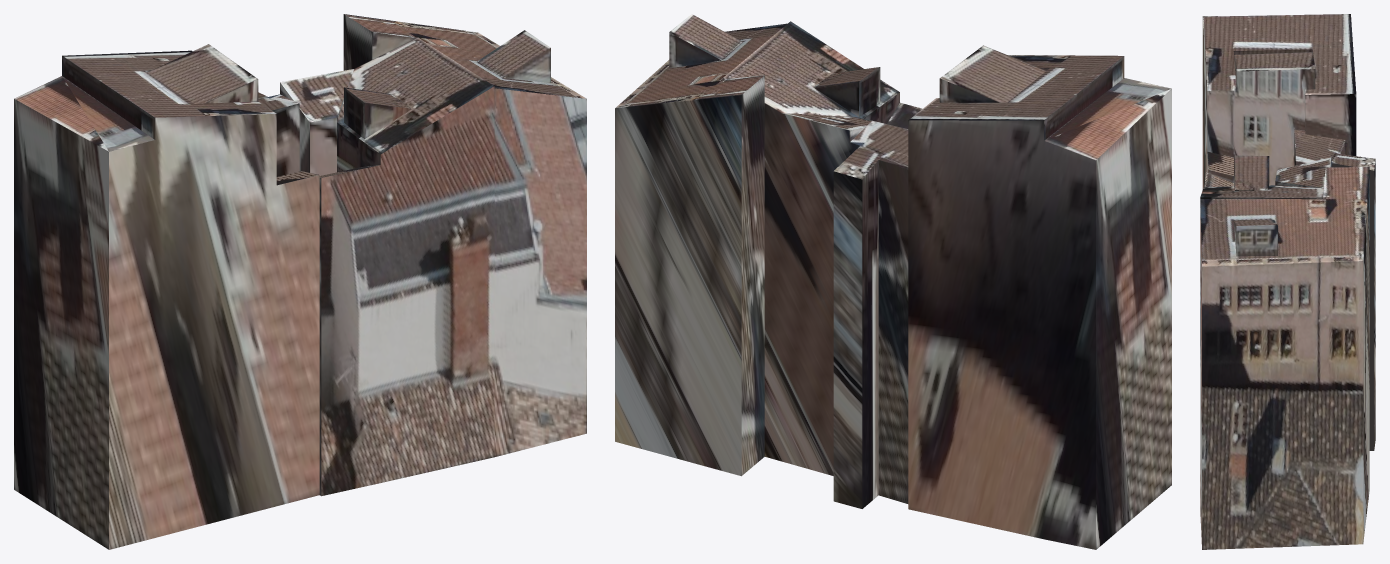
The picture shows the model from 3 angles, left to right: view 1: azimuth 30°, elevation 25°; view 2: azimuth 150°, elevation 25°; view 3: azimuth 270°, elevation 25°; orthographic projection. The views are drawn at different scales.
Visible parts, largest first — view 1: Z_UP; view 2: Z_UP; view 3: Z_UP.
Part boxes in pixels (box(x1,y1,x2,y2)): Z_UP: box(14, 14, 586, 549); Z_UP: box(615, 14, 1171, 549); Z_UP: box(1200, 14, 1375, 549).
Size of the model in its own units: 28.69 by 23.65 by 10.58.
2 materials, 1 textured.
